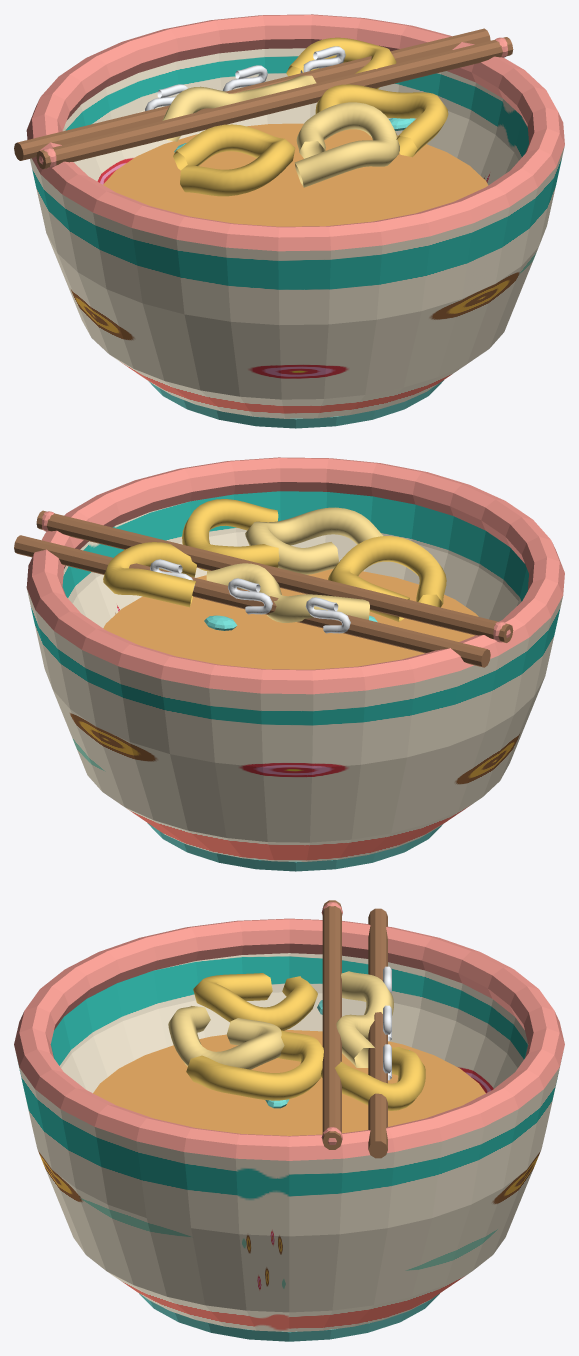
File: asset.glb
The picture shows the model from 3 angles, top to bottom: view 1: azimuth 30°, elevation 25°; view 2: azimuth 150°, elevation 25°; view 3: azimuth 270°, elevation 25°; orthographic projection. The views are drawn at different scales.
Parts seen in each view (by area): view 1: Bowl, Chunky coral rolled rim, Visible amber broth, Resting chopstick 1, Curled noodle 00, Curled noodle 01, Resting chopstick 2, Curled noodle 02, Teal bowl foot, Curled noodle 03, Curled noodle 04, Soft steam wisp 1 (+2 smaller); view 2: Bowl, Chunky coral rolled rim, Visible amber broth, Resting chopstick 1, Resting chopstick 2, Curled noodle 01, Curled noodle 00, Curled noodle 04, Curled noodle 02, Curled noodle 03, Teal bowl foot, Soft steam wisp 1 (+1 smaller); view 3: Bowl, Chunky coral rolled rim, Visible amber broth, Curled noodle 02, Curled noodle 00, Resting chopstick 1, Curled noodle 01, Resting chopstick 2, Curled noodle 04, Curled noodle 03, Teal bowl foot.
Part boxes in pixels (left/top/right/bottom): Bowl: left=30, top=48, right=564, bottom=418; Chunky coral rolled rim: left=26, top=14, right=564, bottom=251; Visible amber broth: left=103, top=123, right=488, bottom=226; Resting chopstick 1: left=36, top=37, right=513, bottom=169; Curled noodle 00: left=173, top=124, right=295, bottom=196; Curled noodle 01: left=294, top=102, right=399, bottom=187; Resting chopstick 2: left=14, top=28, right=490, bottom=160; Curled noodle 02: left=315, top=84, right=448, bottom=157; Teal bowl foot: left=148, top=380, right=443, bottom=428; Curled noodle 03: left=162, top=75, right=316, bottom=141; Curled noodle 04: left=286, top=37, right=396, bottom=88; Soft steam wisp 1: left=222, top=65, right=267, bottom=91; Bowl: left=27, top=491, right=562, bottom=861; Chunky coral rolled rim: left=26, top=457, right=564, bottom=694; Visible amber broth: left=103, top=569, right=478, bottom=669; Resting chopstick 1: left=36, top=510, right=513, bottom=642; Resting chopstick 2: left=14, top=535, right=490, bottom=667; Curled noodle 01: left=245, top=507, right=383, bottom=574; Curled noodle 00: left=328, top=536, right=446, bottom=621; Curled noodle 04: left=103, top=542, right=196, bottom=607; Curled noodle 02: left=182, top=499, right=279, bottom=571; Curled noodle 03: left=206, top=563, right=369, bottom=622; Teal bowl foot: left=147, top=823, right=442, bottom=871; Soft steam wisp 1: left=228, top=578, right=272, bottom=614; Bowl: left=15, top=953, right=563, bottom=1331; Chunky coral rolled rim: left=14, top=918, right=564, bottom=1160; Visible amber broth: left=93, top=1030, right=485, bottom=1135; Curled noodle 02: left=186, top=1030, right=323, bottom=1100; Curled noodle 00: left=193, top=973, right=317, bottom=1030; Resting chopstick 1: left=322, top=900, right=341, bottom=1149; Curled noodle 01: left=168, top=1006, right=284, bottom=1069; Resting chopstick 2: left=368, top=908, right=387, bottom=1158; Curled noodle 04: left=321, top=1047, right=425, bottom=1110; Curled noodle 03: left=336, top=971, right=393, bottom=1067; Teal bowl foot: left=139, top=1293, right=439, bottom=1341.
Bounding box in the file's own units: 0.1807 × 0.0975 × 0.18.
8 materials, 1 textured.
